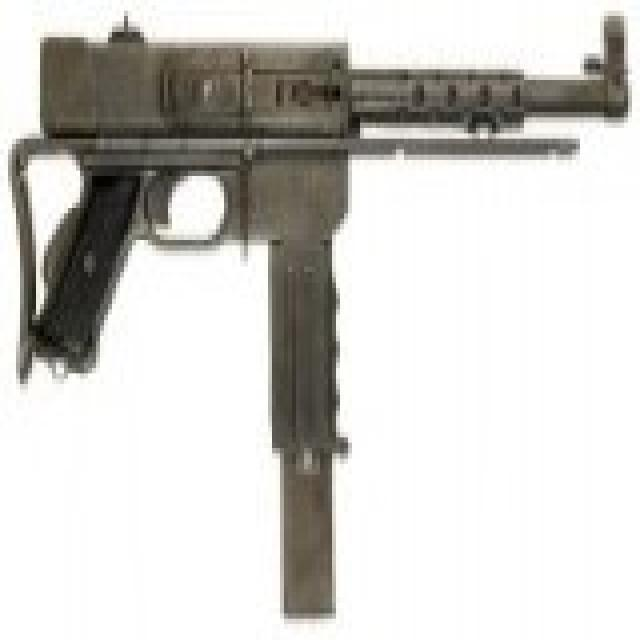Gun: (14, 22, 632, 619)
